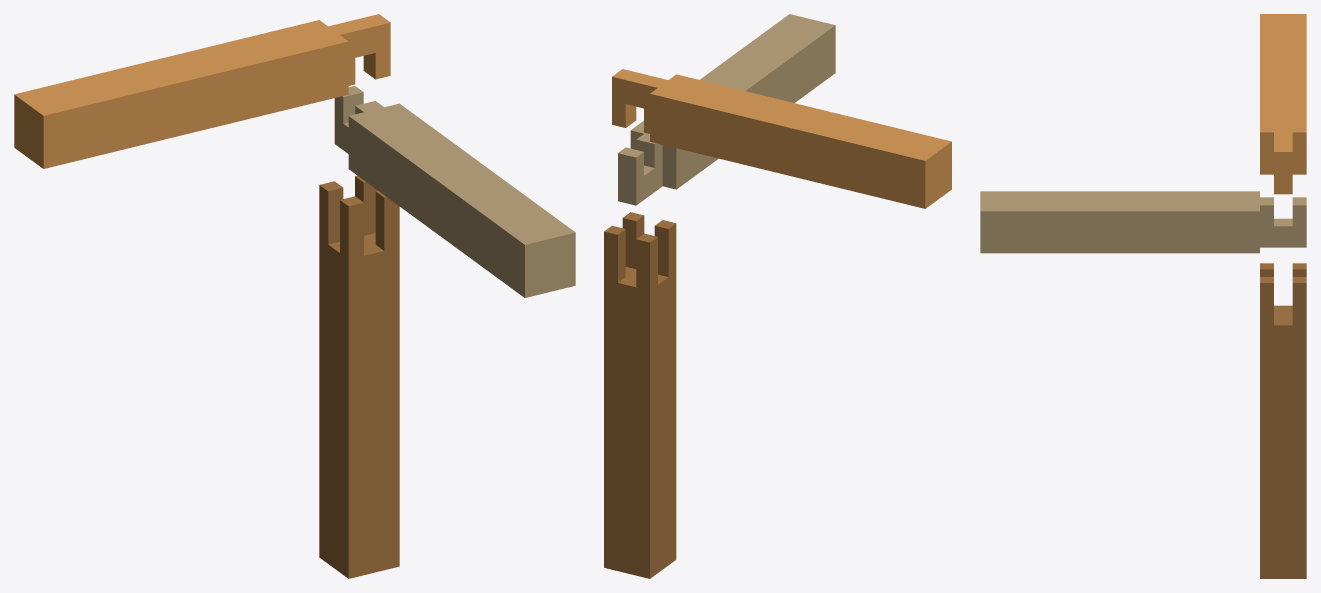
The picture shows the model from 3 angles, left to right: view 1: azimuth 30°, elevation 25°; view 2: azimuth 150°, elevation 25°; view 3: azimuth 270°, elevation 25°; orthographic projection. The views are drawn at different scales.
Bounding box in the file's own units: 7 × 10.1 × 7.
